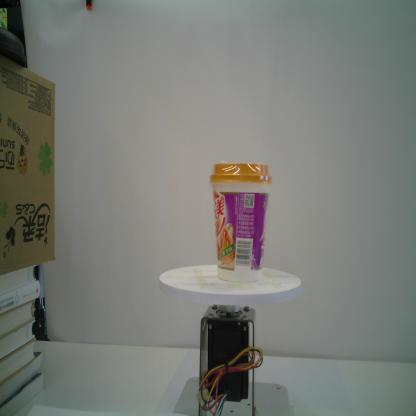Instant Drink: (209, 163, 272, 283)
